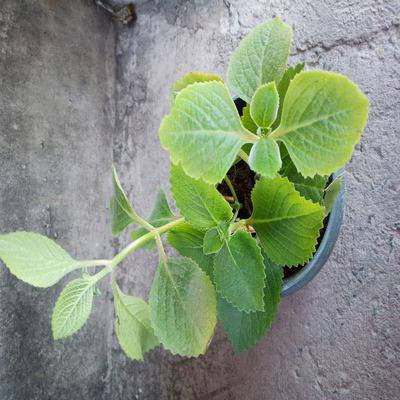Oregano: (102, 62, 386, 326)
